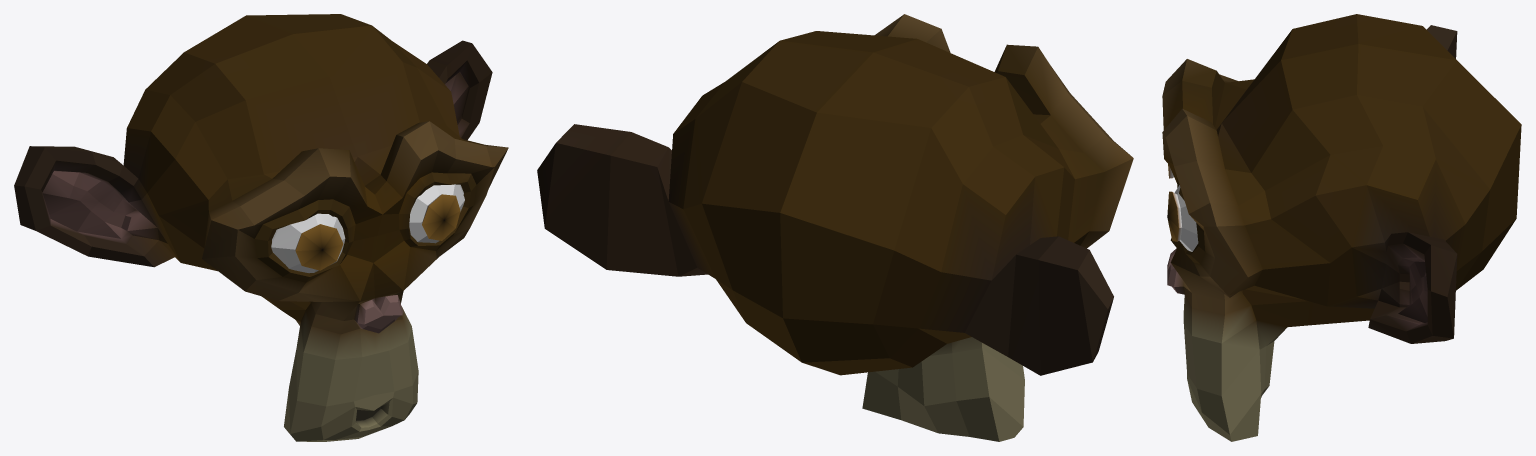
The model's file is suzanne.obj.
3 views of the same model, side by side, from view 1: azimuth 30°, elevation 25°; view 2: azimuth 150°, elevation 25°; view 3: azimuth 270°, elevation 25° (orthographic). The views are drawn at different scales.
Visible parts, largest first — view 1: Suzanne; view 2: Suzanne; view 3: Suzanne.
Boxes of the visible parts, left/top/right/bottom form: Suzanne: left=14, top=14, right=508, bottom=441; Suzanne: left=537, top=14, right=1133, bottom=441; Suzanne: left=1162, top=14, right=1521, bottom=441.
Bounding box in the file's own units: 2.73 × 1.97 × 1.7.
